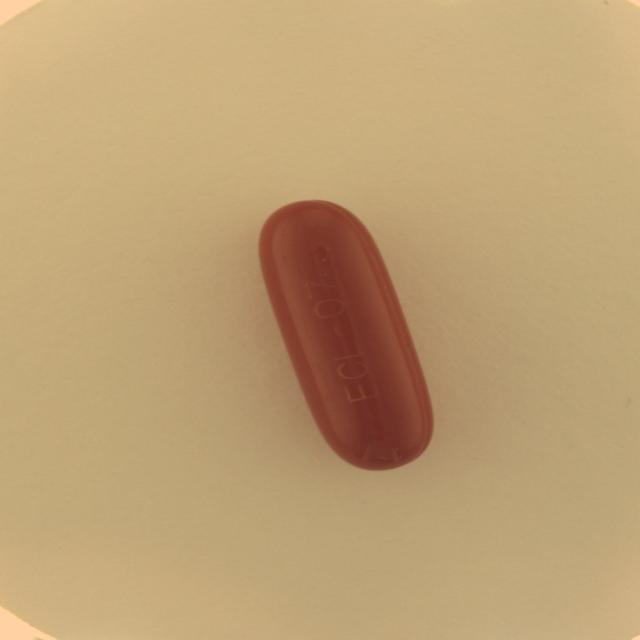Oval: (260, 200, 433, 474)
